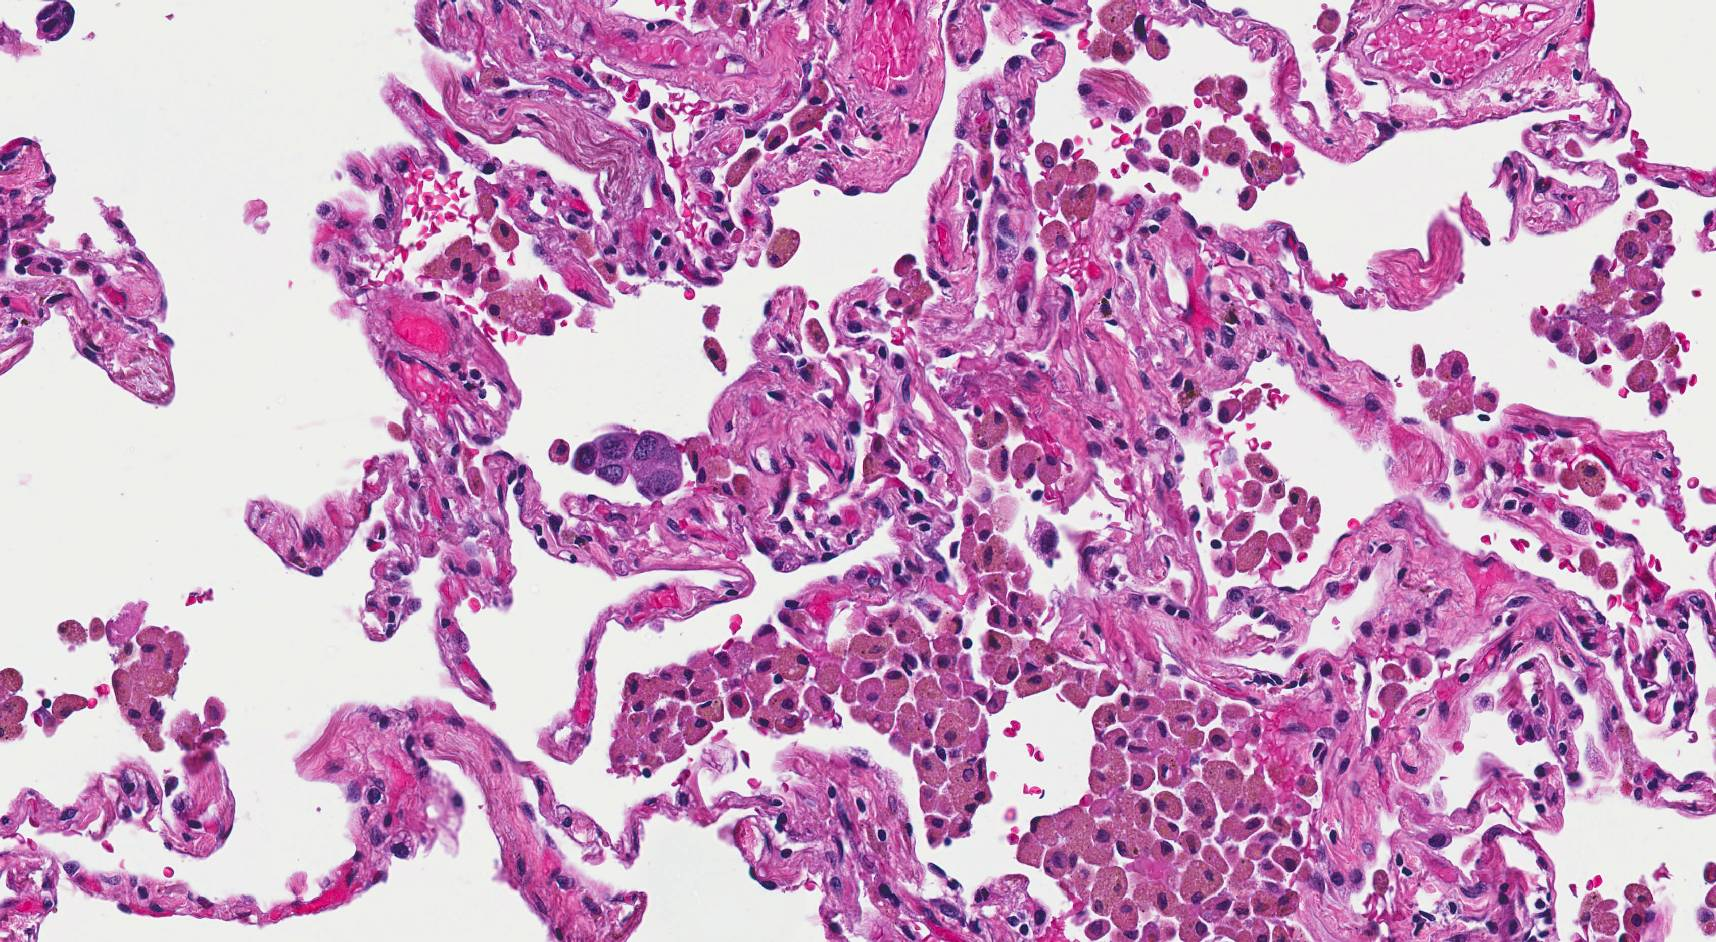stas: (574, 428, 684, 500), (33, 1, 75, 41)
